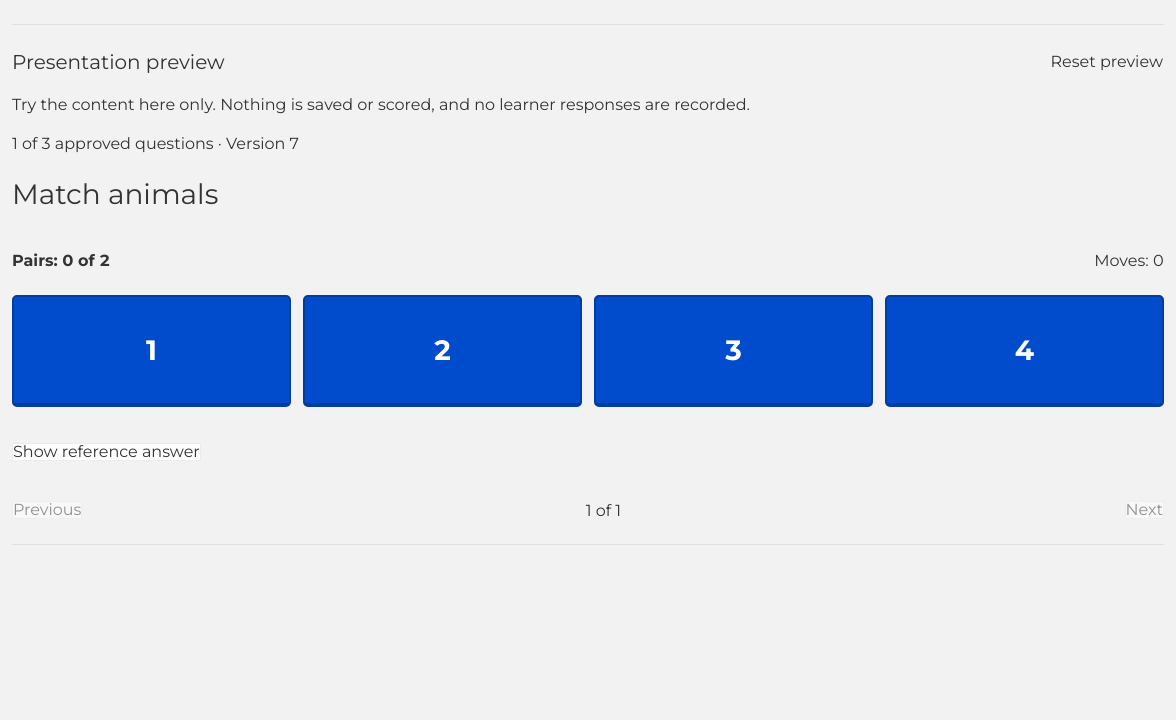
uses the shared memory transition locally and an explicit reset restores concealed cards
The image size is (1176, 720).
Step 1. Click the button named "Reveal card 1" → (152, 351), box [12, 295, 291, 407]
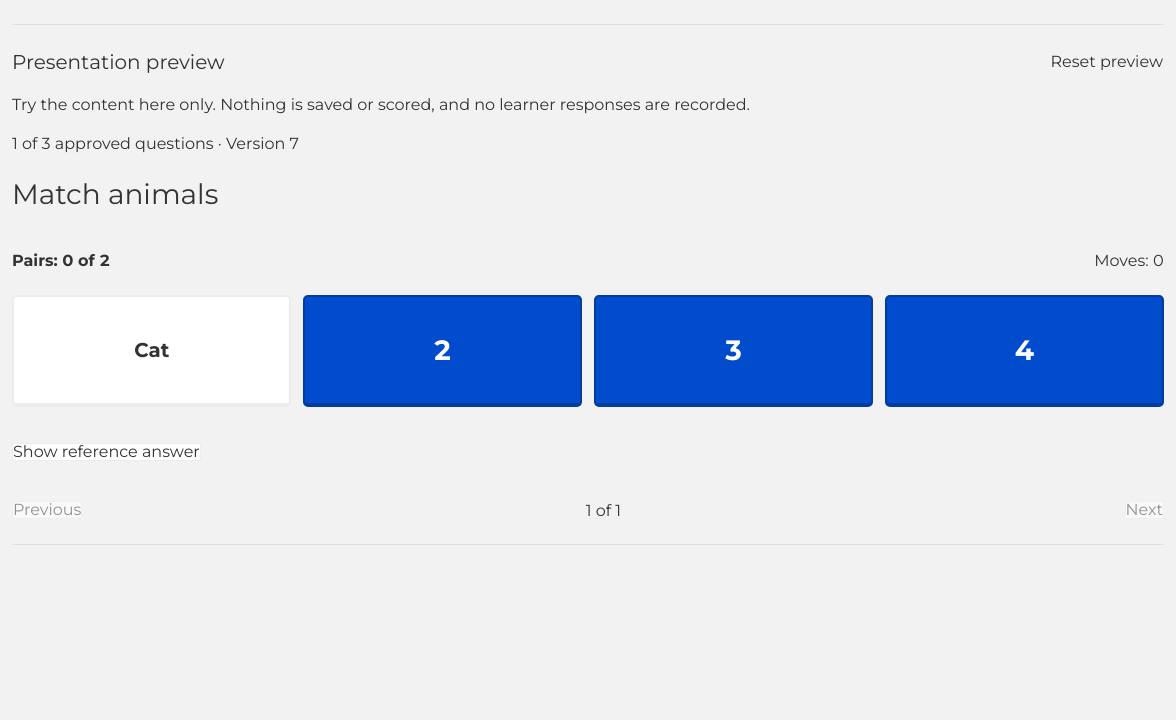
Expected: the text "Mammal" is not shown
Now the text "Cat" is shown, box [134, 335, 169, 365]
Step 2. Click the button named "Reveal card 2" → (442, 351), box [303, 295, 582, 407]
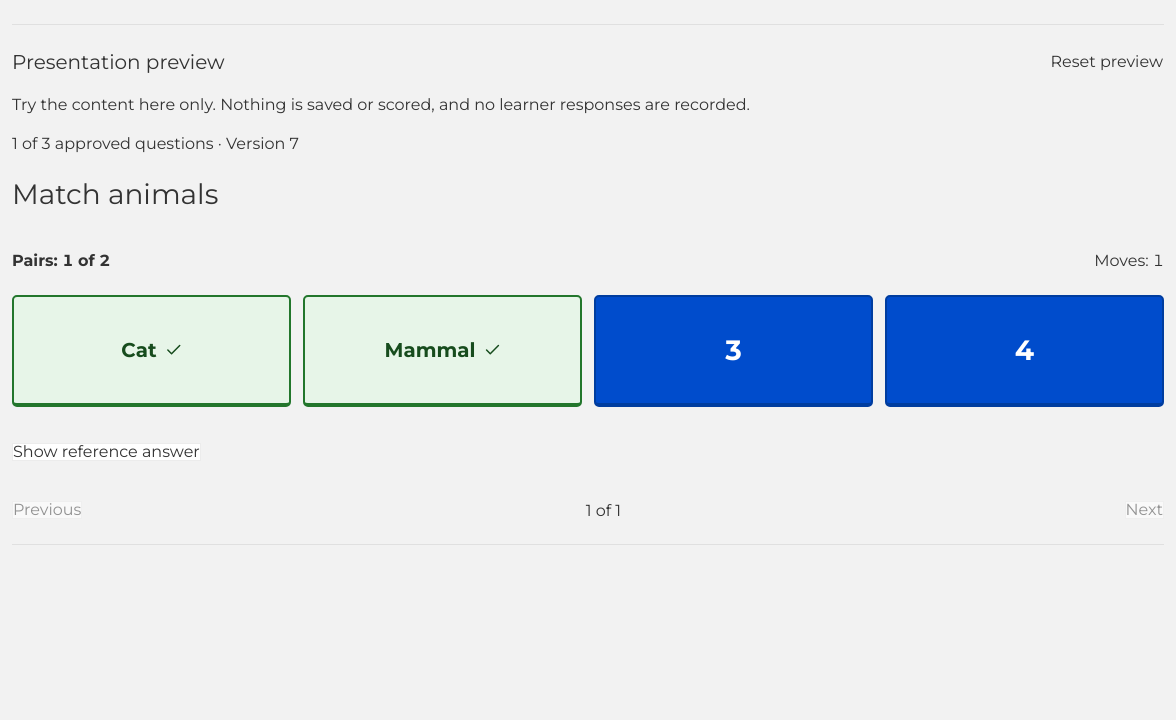
Now the text "Pairs: 1 of 2" is shown, box [12, 247, 110, 275]
Step 3. Click the button "Reset preview" → (1107, 62), box [1050, 53, 1164, 71]
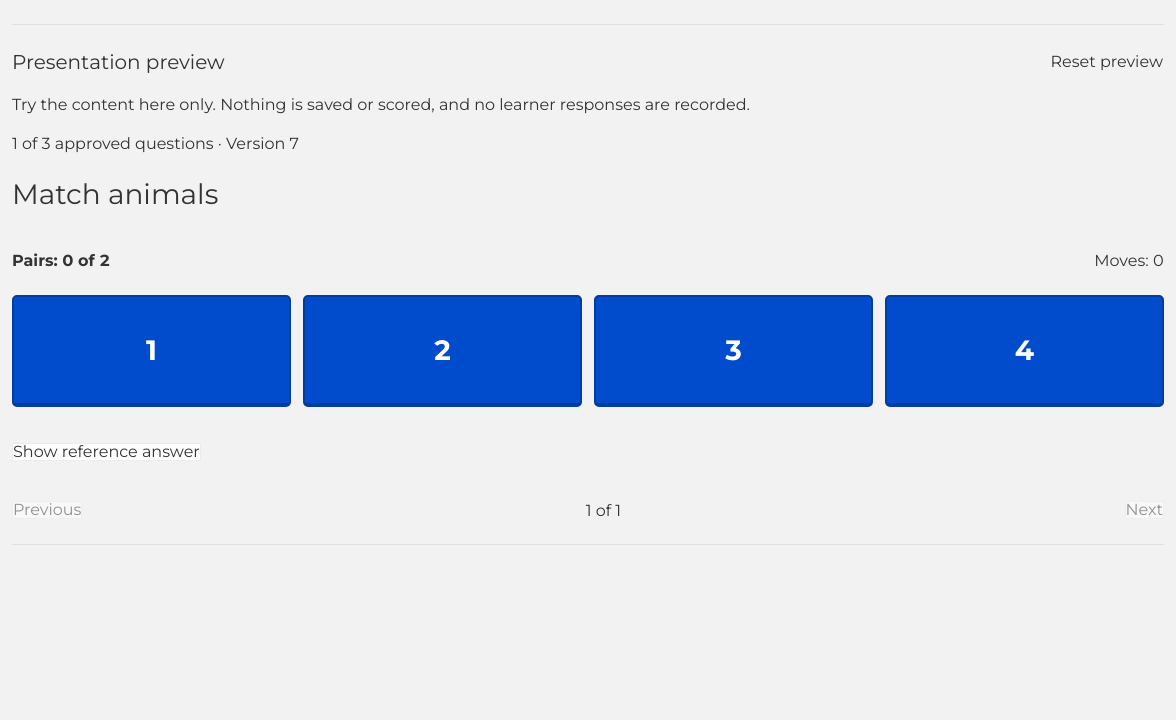
Now the button "Cat" is gone
Now the text "Pairs: 0 of 2" is shown, box [12, 247, 110, 275]
